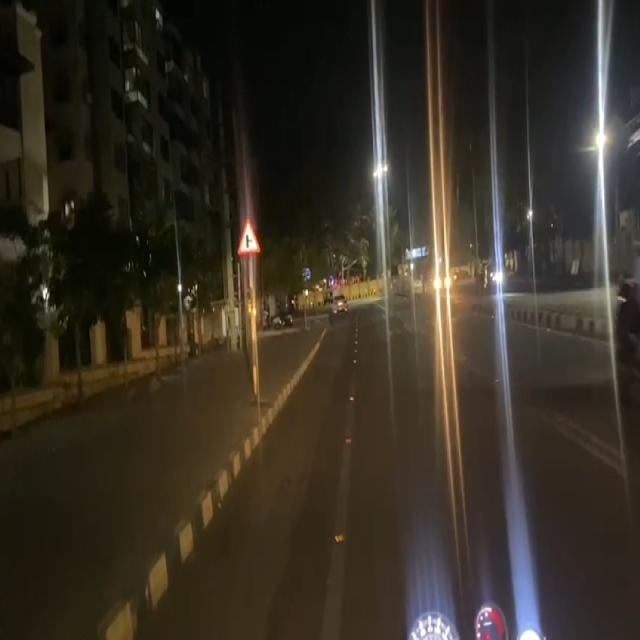bien_nguy_hiem: (237, 215, 260, 256)
